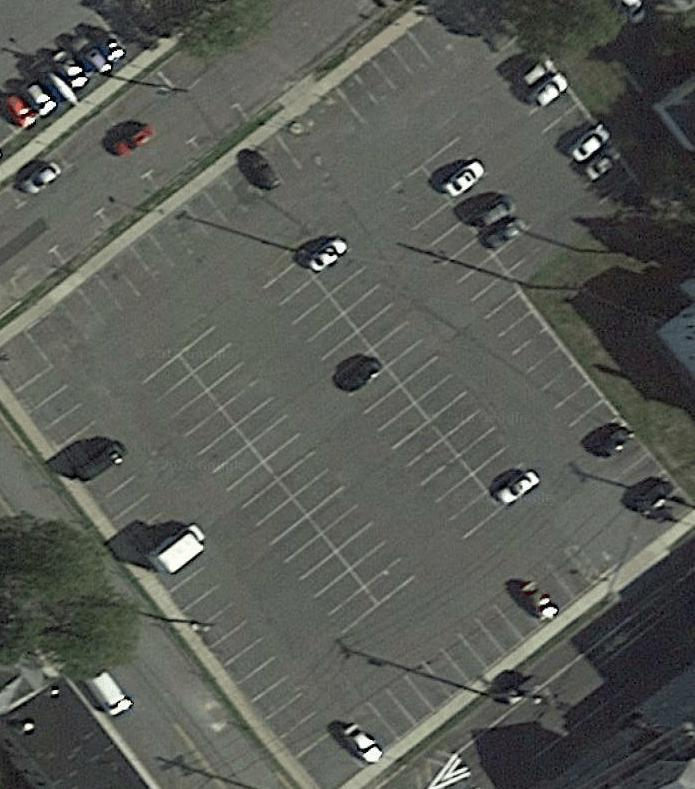parkingspot: (10, 360, 339, 764), (377, 163, 695, 539), (258, 255, 504, 544), (175, 322, 420, 609), (138, 352, 382, 639), (299, 227, 545, 511), (21, 129, 307, 373), (329, 543, 596, 772), (6, 98, 253, 302), (4, 43, 216, 212), (482, 35, 639, 209), (418, 132, 561, 291), (0, 20, 130, 138), (333, 15, 456, 125)
